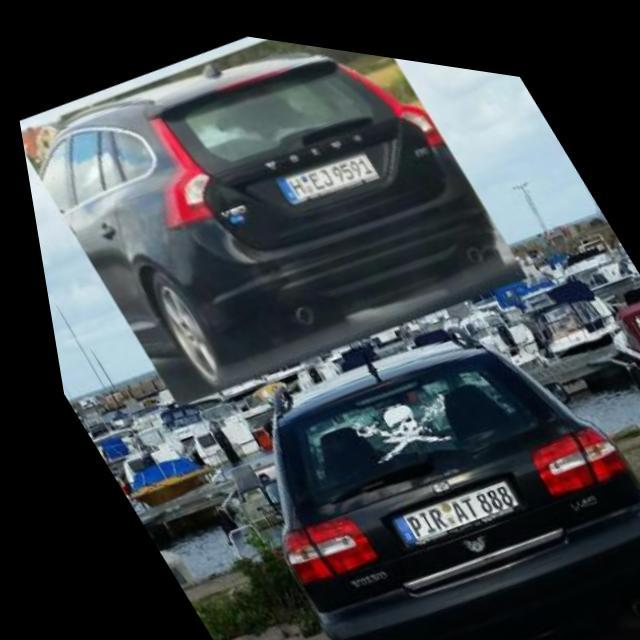license_plate: (366, 449, 519, 560), (264, 127, 382, 214)
